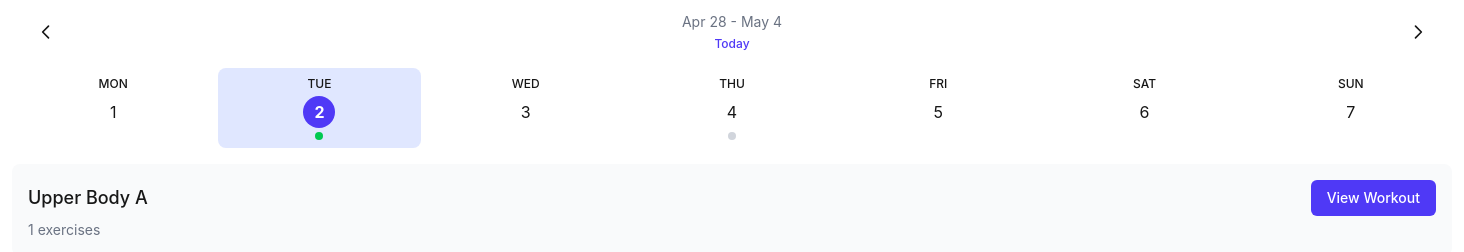
WeeklyCalendar › displays rest day message when a date without a workout is selected
The width and height of the screenshot is (1464, 252).
Step 1. Click the button "Wed 3" → click(526, 108), box [425,68,627,148]
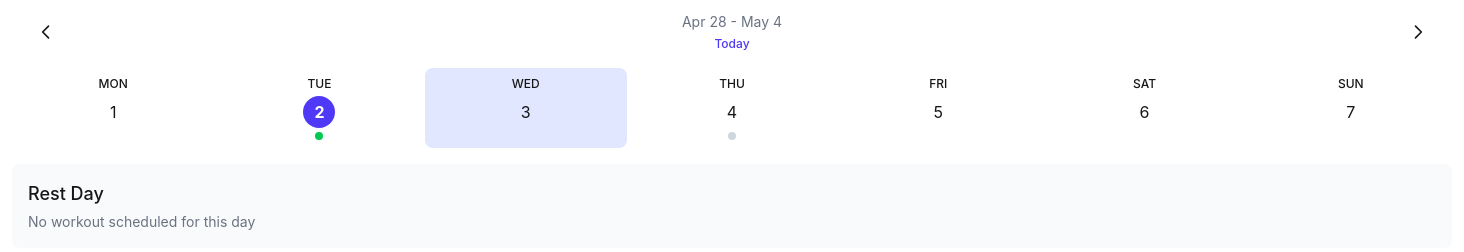
Check: the heading "Rest Day" is shown, box [28,183,104,204]
Check: the text "No workout scheduled for this day" is shown, box [28,213,255,230]
